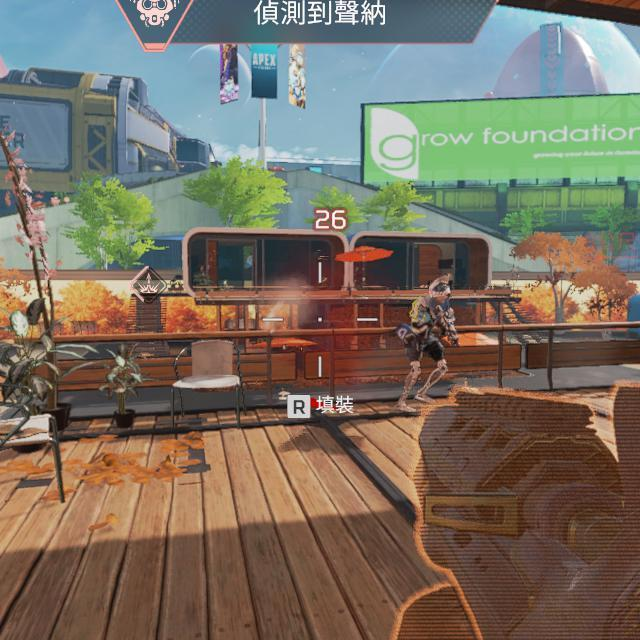avatar: (396, 273, 459, 412)
